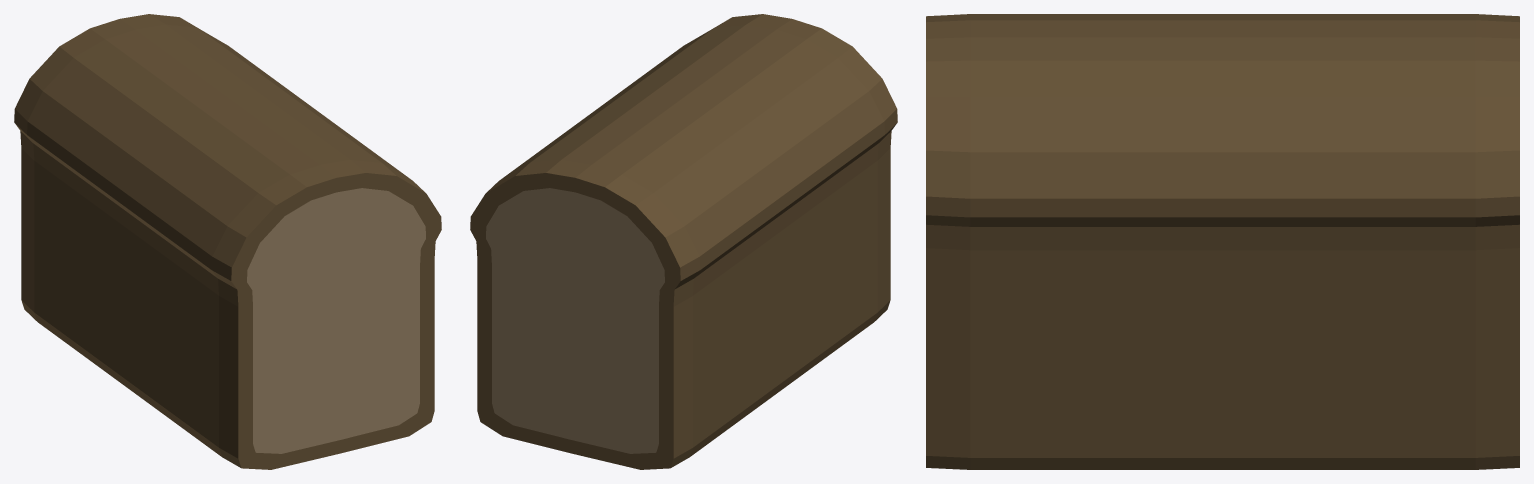
The model's file is Bread.glb.
3 renders of one model, left to right at view 1: azimuth 30°, elevation 25°; view 2: azimuth 150°, elevation 25°; view 3: azimuth 270°, elevation 25°, orthographic. The views are drawn at different scales.
Parts seen in each view (by area): view 1: Brown, Light; view 2: Brown, Light; view 3: Brown.
Part boxes in pixels (bbox=[...]): Brown: bbox=[14, 14, 441, 469]; Light: bbox=[247, 188, 425, 453]; Brown: bbox=[470, 14, 897, 469]; Light: bbox=[486, 188, 664, 453]; Brown: bbox=[926, 14, 1519, 469].
Size of the model in its own units: 0.6933 by 0.847 by 1.2.
